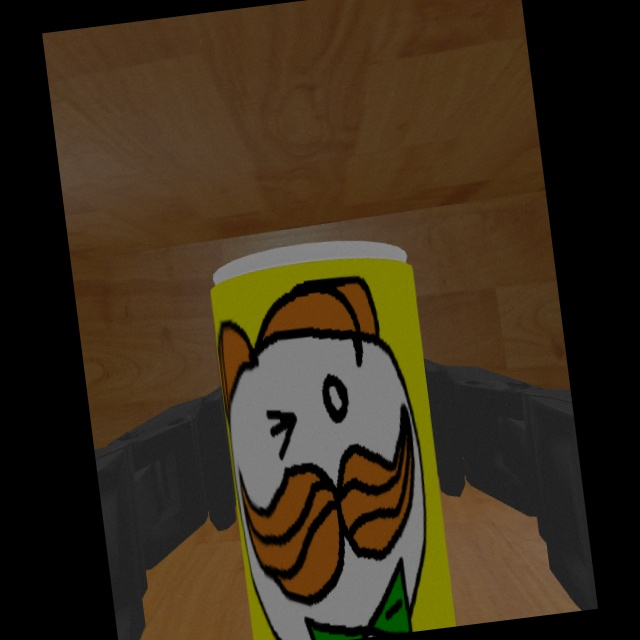chipsdose_gelb: (211, 240, 456, 640)
